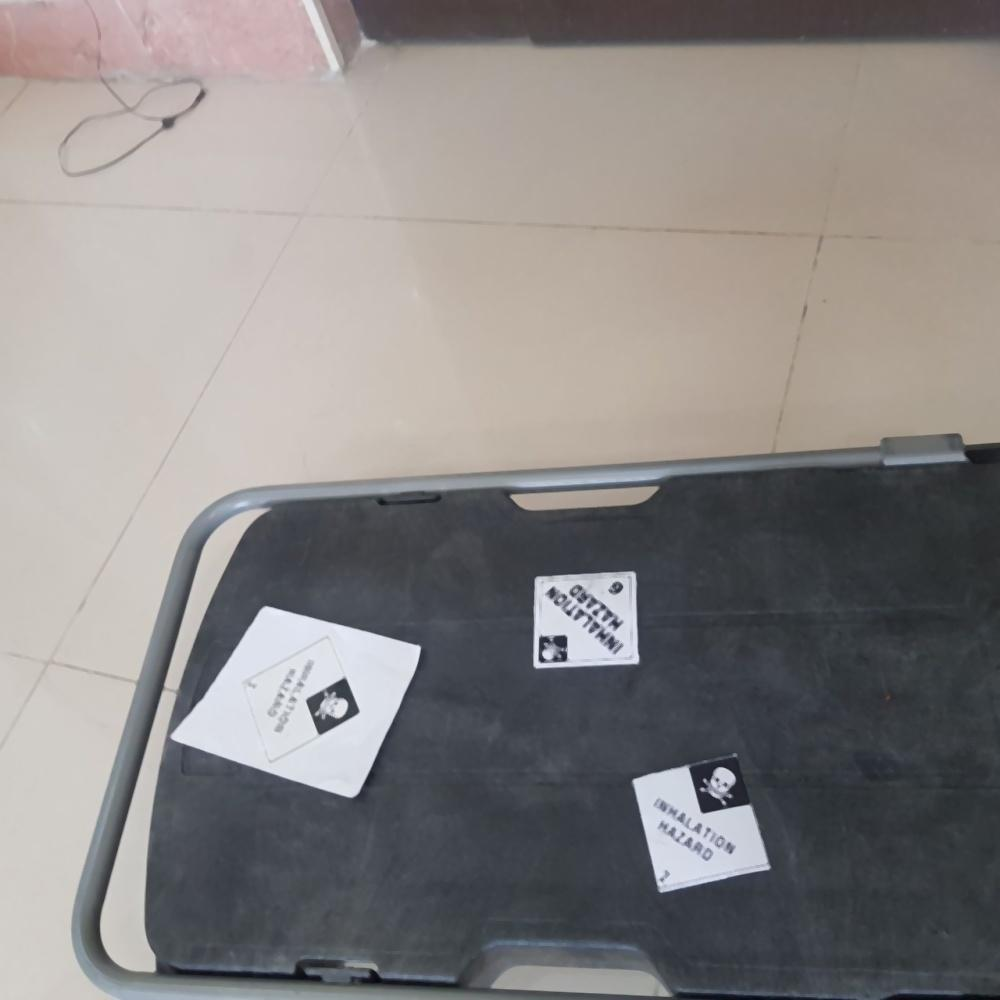poison: (233, 633, 369, 766), (632, 758, 772, 886), (530, 573, 639, 671)
